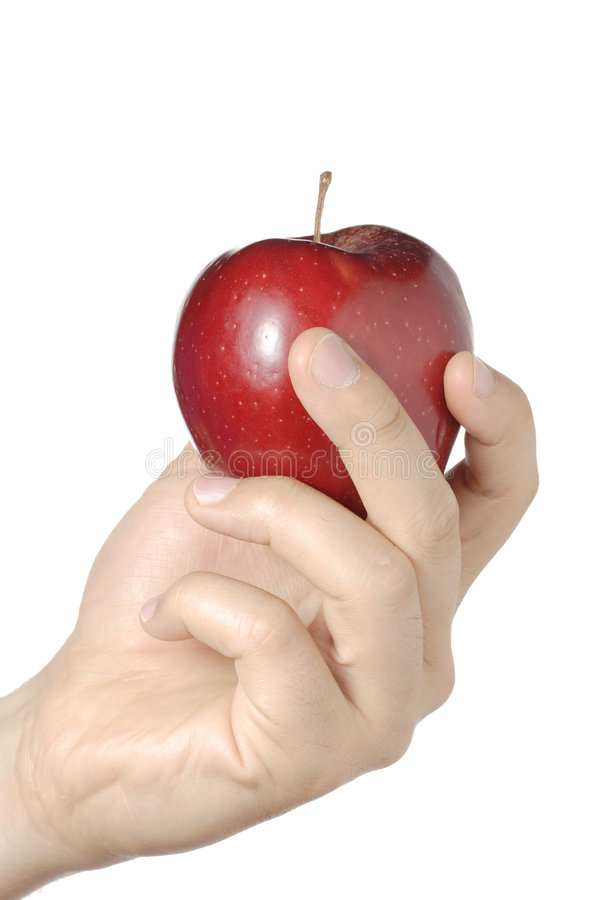apple: (170, 170, 478, 521)
